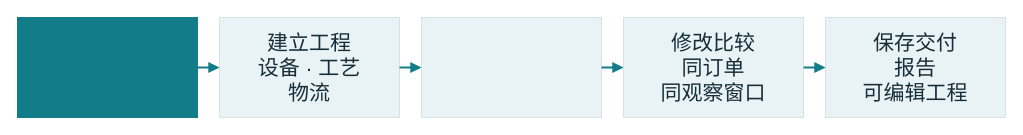
Image size: 1023x135. Some labels were removed from this diagram. Each missing label, with the centre of its shape:
目标与条件 订单 · 场地 班次: pixel 107 67
运行观察 物品 · 资源 等待: pixel 511 67
